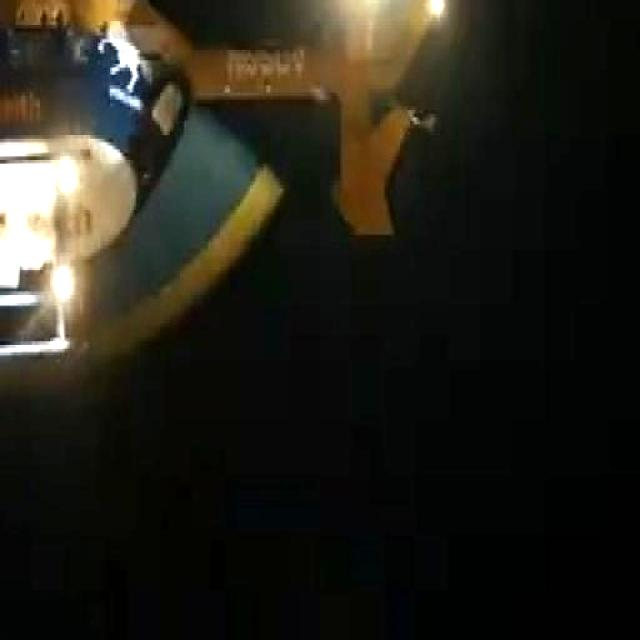drone: (0, 0, 462, 384)
